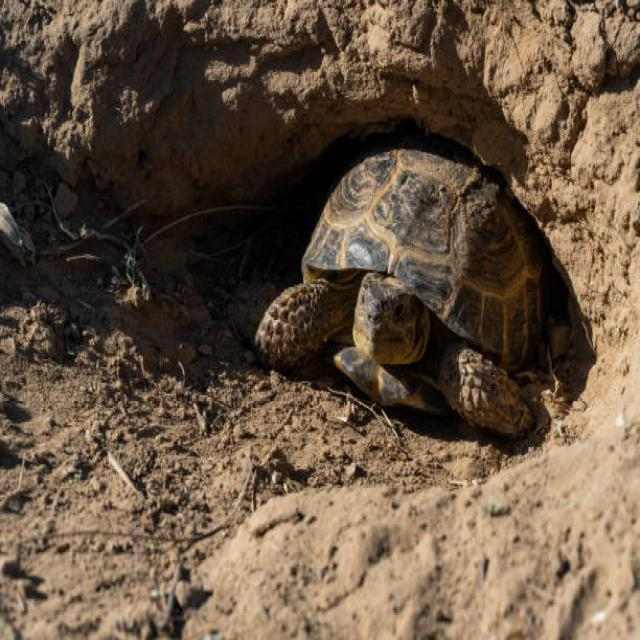tortoise: (258, 135, 542, 439)
